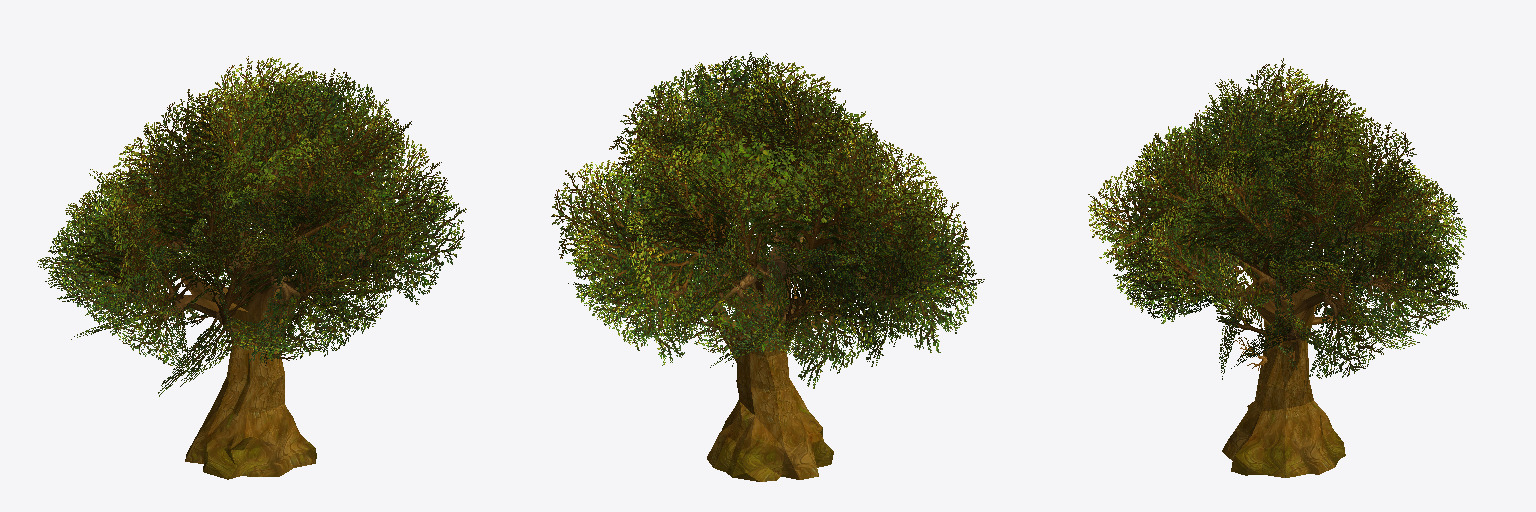
The picture shows the model from 3 angles: view 1: azimuth 30°, elevation 25°; view 2: azimuth 150°, elevation 25°; view 3: azimuth 270°, elevation 25°; orthographic projection.
Parts seen in each view (by area): view 1: elwynntreecanopy02.m2; view 2: elwynntreecanopy02.m2; view 3: elwynntreecanopy02.m2.
Boxes of the visible parts, x1,y1,x2,y2 form: elwynntreecanopy02.m2: [37, 56, 466, 479]; elwynntreecanopy02.m2: [551, 52, 984, 481]; elwynntreecanopy02.m2: [1088, 58, 1468, 477].
Size of the model in its own units: 54.94 by 53.36 by 48.85.
Materials: 2 (2 with a texture image).